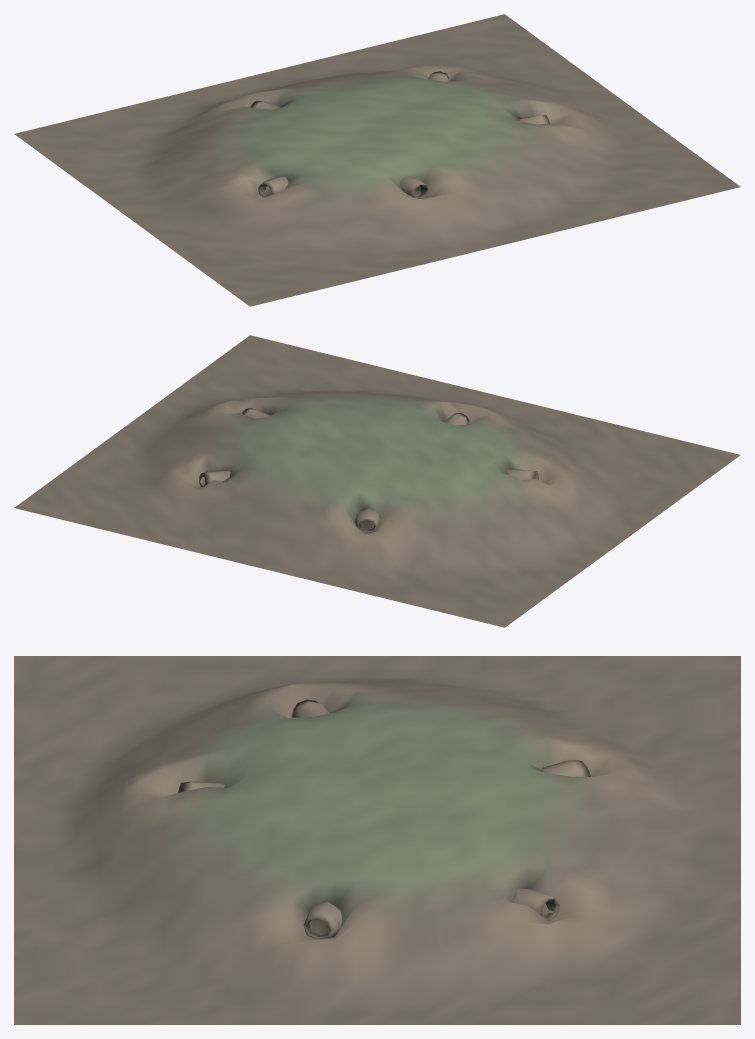
The model's file is warren_mound_lo.glb.
The picture shows the model from 3 angles, top to bottom: view 1: azimuth 30°, elevation 25°; view 2: azimuth 150°, elevation 25°; view 3: azimuth 270°, elevation 25°; orthographic projection. The views are drawn at different scales.
Parts seen in each view (by area): view 1: warren_mound_lo; view 2: warren_mound_lo; view 3: warren_mound_lo.
Boxes of the visible parts, left/top/right/bottom form: warren_mound_lo: left=14, top=14, right=740, bottom=306; warren_mound_lo: left=14, top=335, right=740, bottom=627; warren_mound_lo: left=14, top=656, right=740, bottom=1024.
Size of the model in its own units: 6 by 0.4973 by 5.
